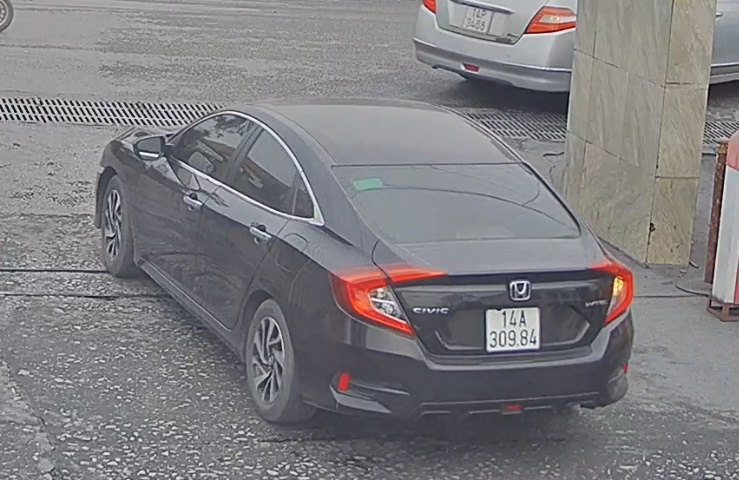vehicle plate: (478, 301, 544, 355)
